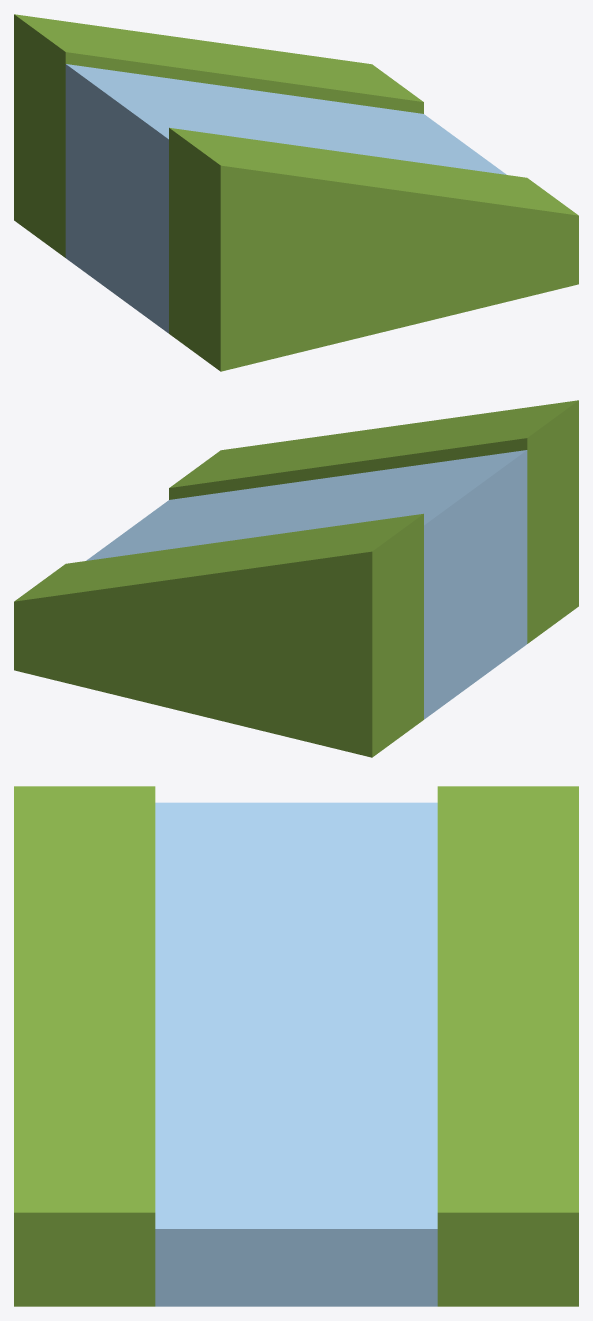
Rendered from roadTile_189.fbx.
The picture shows the model from 3 angles, top to bottom: view 1: azimuth 30°, elevation 25°; view 2: azimuth 150°, elevation 25°; view 3: azimuth 270°, elevation 25°; orthographic projection. The views are drawn at different scales.
Visible parts, largest first — view 1: roadTile_189; view 2: roadTile_189; view 3: roadTile_189.
Part boxes in pixels (x1=…): roadTile_189: x1=14, y1=14, x2=578, y2=371; roadTile_189: x1=14, y1=400, x2=578, y2=757; roadTile_189: x1=14, y1=786, x2=578, y2=1306.
Size of the model in its own units: 118 by 64.96 by 118.
